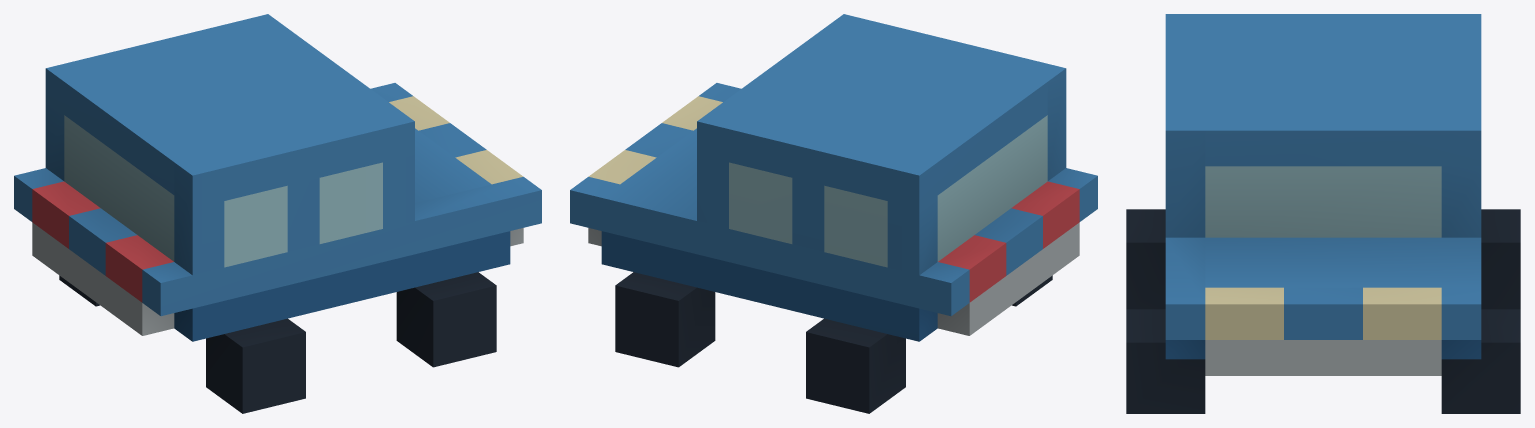
File: hatchback.glb
3 views of the same model, side by side, from view 1: azimuth 30°, elevation 25°; view 2: azimuth 150°, elevation 25°; view 3: azimuth 270°, elevation 25° (orthographic). The views are drawn at different scales.
Parts seen in each view (by area): view 1: hatchback_body; view 2: hatchback_body; view 3: hatchback_body.
Boxes of the visible parts, x1,y1,x2,y2 form: hatchback_body: (14,14,541,413); hatchback_body: (570,14,1097,413); hatchback_body: (1126,14,1520,413).
Size of the model in its own units: 1 by 0.5833 by 0.8333.
